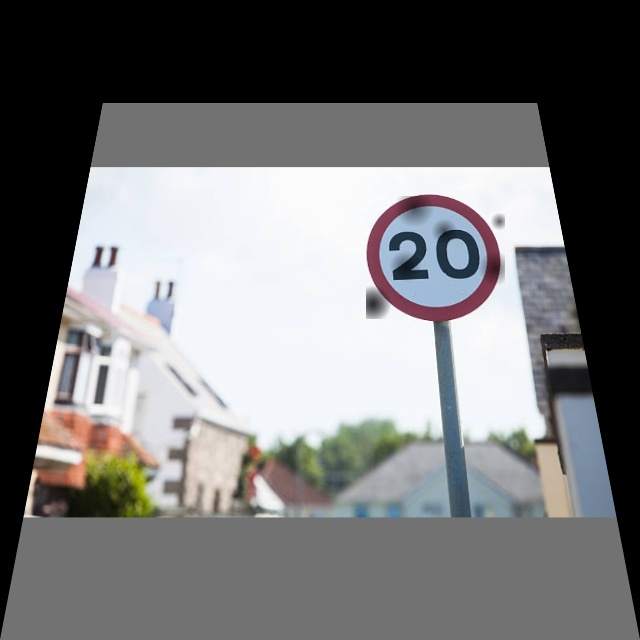Speed_Limit_20: (366, 196, 505, 319)
